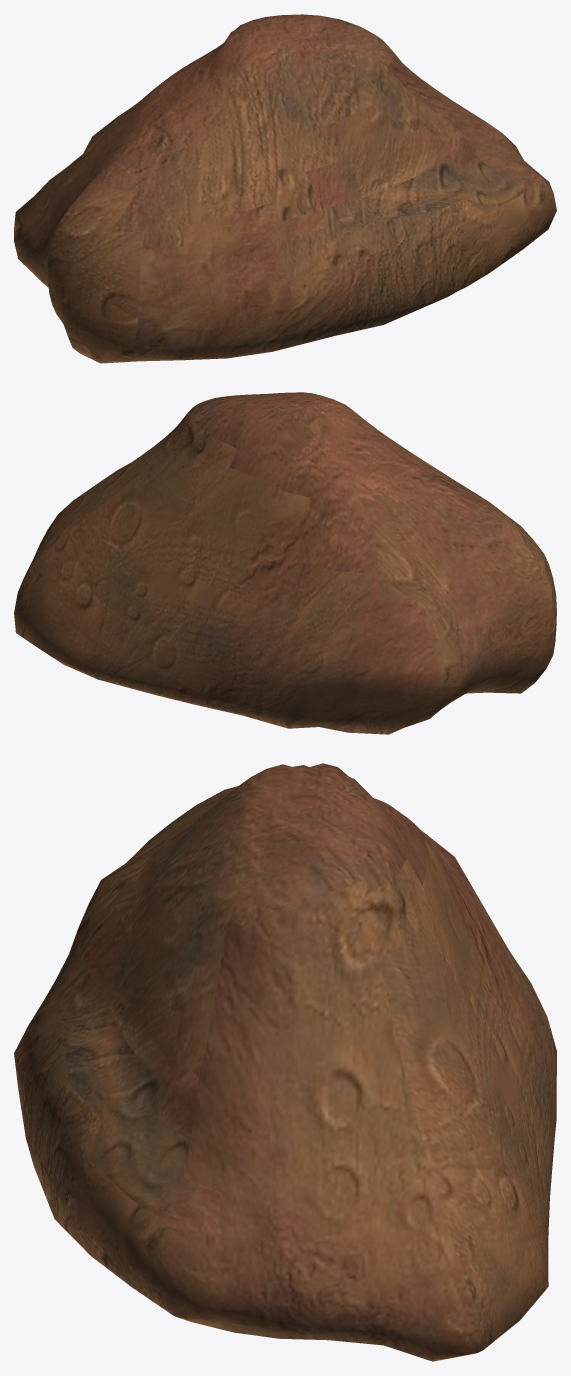
The model's file is MarsRock12.obj.
3 views of the same model, one above another, from view 1: azimuth 30°, elevation 25°; view 2: azimuth 150°, elevation 25°; view 3: azimuth 270°, elevation 25° (orthographic). The views are drawn at different scales.
Visible parts, largest first — view 1: Rocks3; view 2: Rocks3; view 3: Rocks3.
Boxes of the visible parts, x1,y1,x2,y2 form: Rocks3: [14, 14, 556, 363]; Rocks3: [14, 392, 556, 734]; Rocks3: [14, 763, 556, 1361].
Size of the model in its own units: 0.7097 by 0.3707 by 0.4308.
1 material, 1 textured.
